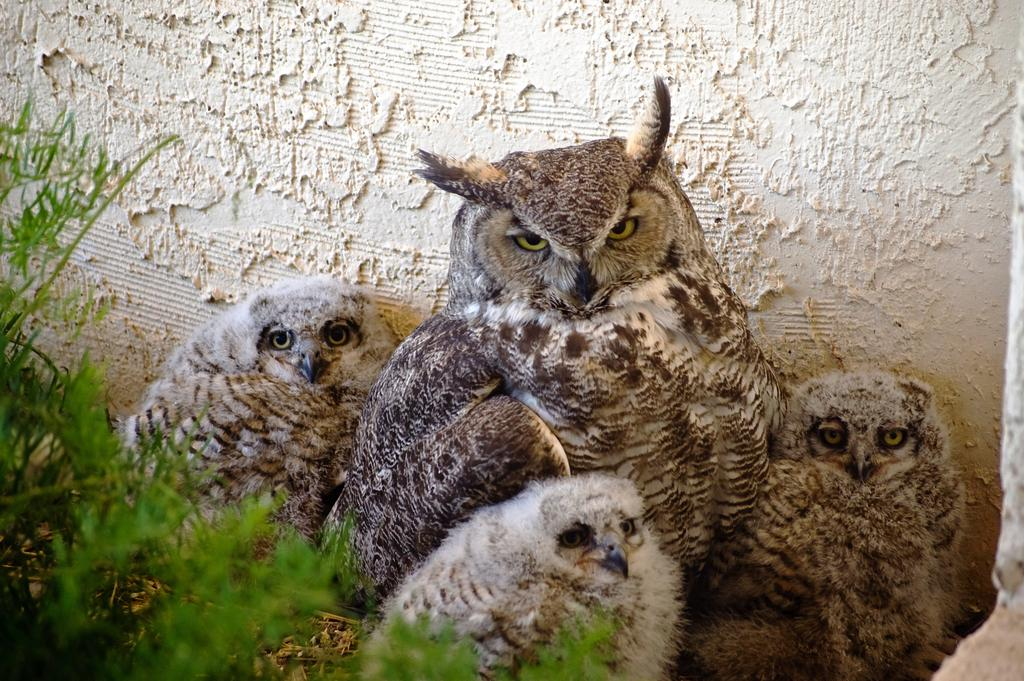Owl: (310, 70, 782, 611), (706, 371, 987, 680), (125, 278, 403, 538), (344, 468, 686, 676)
